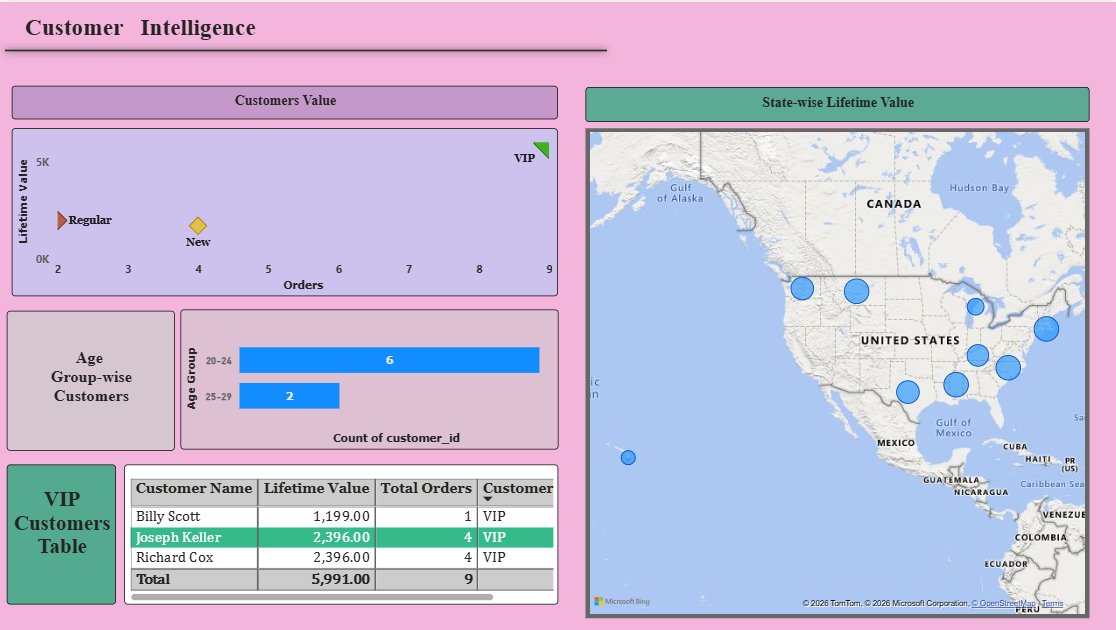

The dashboard page shown, as its layout file describes it:
{"tool":"powerbi","page":{"name":"Customer Intelligence","canvas":[1280,720],"ordinal":1},"visuals":[{"type":"clusteredBarChart","title":"Age-Group wise Customers","fields":{"Category":["customer_order_summary.age_group"],"Y":["Count(customer_order_summary.customer_id)"]},"box":[208,352,432,160],"z":0},{"type":"scatterChart","title":"Customers Value","fields":{"X":["Sum(customer_order_summary.total_orders)"],"Y":["Sum(customer_order_summary.lifetime_value)"],"Size":["Sum(customer_order_summary.lifetime_value)"],"Series":["customer_order_summary.customer_segment"]},"box":[16,144,624,192],"z":1000},{"type":"tableEx","title":"VIP Customers","fields":{"Values":["customer_order_summary.customer_name","Sum(customer_order_summary.lifetime_value)","Sum(customer_order_summary.total_orders)","customer_order_summary.customer_segment"]},"box":[144,528,496,160],"z":2000},{"type":"map","title":"State-wise Lifetime value","fields":{"Category":["customer_order_summary.state"],"Size":["Sum(customer_order_summary.lifetime_value)"]},"box":[672,144,576,560],"z":3000},{"type":"textbox","box":[672,97,576,40],"z":4000},{"type":"textbox","box":[10,528,125,160],"z":5000},{"type":"textbox","box":[10,353,192,160],"z":6000},{"type":"textbox","box":[16,96,624,38],"z":7000},{"type":"shape","box":[0,32,704,48],"z":8000},{"type":"textbox","box":[26,8,304,48],"z":9000}]}

Visuals, with their boxes in screenshot pixels (x1, y1, x2, y2), scaled from the page's 1280x720 canvas onto the 1116x630 screenshot:
"Age-Group wise Customers" clusteredBarChart: 181/308/558/448
"Customers Value" scatterChart: 14/126/558/294
"VIP Customers" tableEx: 126/462/558/602
"State-wise Lifetime value" map: 586/126/1088/616
textbox: 586/85/1088/120
textbox: 9/462/118/602
textbox: 9/309/176/449
textbox: 14/84/558/117
shape: 0/28/614/70
textbox: 23/7/288/49
